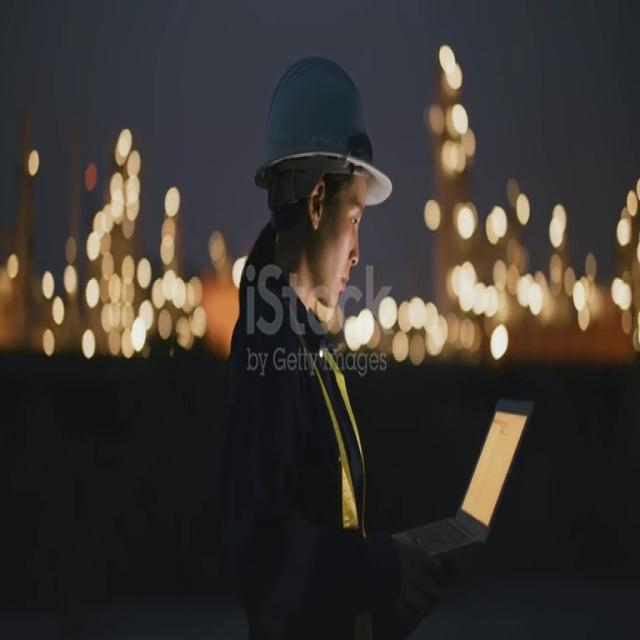capacete: (246, 34, 396, 251)
